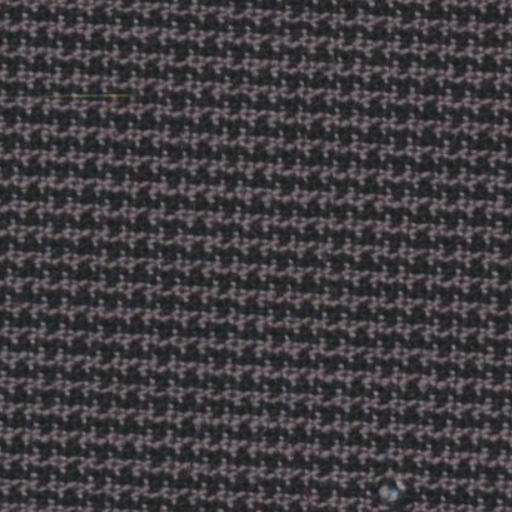PoDong: (358, 462, 416, 510)
